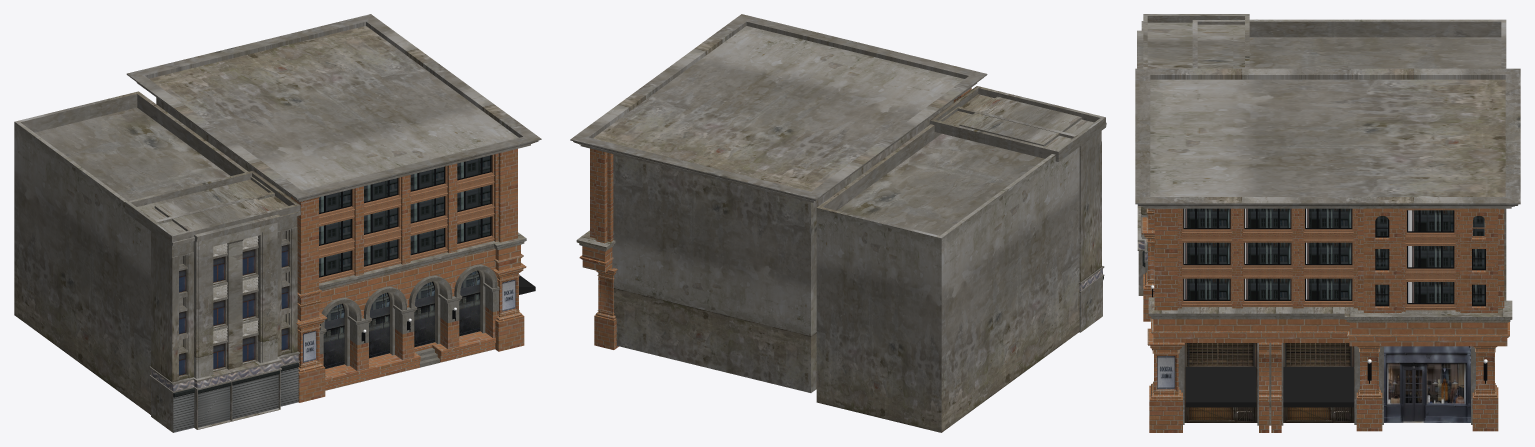
The model's file is building2.glb.
3 views of the same model, side by side, from view 1: azimuth 30°, elevation 25°; view 2: azimuth 150°, elevation 25°; view 3: azimuth 270°, elevation 25° (orthographic). The views are drawn at different scales.
Parts seen in each view (by area): view 1: Cube.002_31, Cube.022_39, floor 3 to 9 1.003_19, Cube.018_35, Cube.021_38, Cube.017_34, Cube.005_27, Cube.020_37, colum l.002_2, Cube.010_29, colum l.003_3, Cube.019_36 (+7 smaller); view 2: Cube.022_39, Cube.002_31, Cube.001_30, Cube.021_38, Cube.018_35, colum l.006_9, Cube.017_34, colum s .005_7, first floor top_15, two window block.002_24; view 3: Cube.002_31, floor 3 to 9 1.004_20, Cube.022_39, first floor top.001_16, first flooe 2._11, first floor 2._12, first floor top_15, MARQUISE_13, Cube.021_38, colum l.003_3, floor 3 to 9 1.005_23, colum l.006_9 (+12 smaller).
Part boxes in pixels (x1=…): Cube.002_31: x1=126, y1=14, x2=541, y2=201; Cube.022_39: x1=14, y1=91, x2=274, y2=414; floor 3 to 9 1.003_19: x1=319, y1=154, x2=494, y2=283; Cube.018_35: x1=151, y1=216, x2=297, y2=382; Cube.021_38: x1=125, y1=170, x2=301, y2=246; Cube.017_34: x1=149, y1=351, x2=299, y2=432; Cube.005_27: x1=323, y1=270, x2=485, y2=368; Cube.020_37: x1=193, y1=222, x2=277, y2=378; colum l.002_2: x1=291, y1=196, x2=327, y2=402; Cube.010_29: x1=319, y1=241, x2=499, y2=318; colum l.003_3: x1=492, y1=148, x2=526, y2=351; Cube.019_36: x1=213, y1=235, x2=258, y2=371; Cube.022_39: x1=816, y1=106, x2=1079, y2=432; Cube.002_31: x1=570, y1=14, x2=987, y2=202; Cube.001_30: x1=612, y1=101, x2=953, y2=392; Cube.021_38: x1=929, y1=86, x2=1106, y2=161; Cube.018_35: x1=1079, y1=131, x2=1101, y2=282; colum l.006_9: x1=594, y1=268, x2=618, y2=349; Cube.017_34: x1=1079, y1=266, x2=1104, y2=332; colum s .005_7: x1=596, y1=150, x2=607, y2=243; first floor top_15: x1=576, y1=230, x2=615, y2=272; two window block.002_24: x1=590, y1=174, x2=613, y2=241; Cube.002_31: x1=1135, y1=68, x2=1520, y2=208; floor 3 to 9 1.004_20: x1=1182, y1=208, x2=1353, y2=306; Cube.022_39: x1=1192, y1=19, x2=1506, y2=300; first floor top.001_16: x1=1148, y1=297, x2=1460, y2=342; first flooe 2._11: x1=1379, y1=346, x2=1475, y2=424; first floor 2._12: x1=1178, y1=343, x2=1359, y2=425; first floor top_15: x1=1344, y1=300, x2=1512, y2=346; MARQUISE_13: x1=1185, y1=367, x2=1353, y2=407; Cube.021_38: x1=1137, y1=14, x2=1249, y2=68; colum l.003_3: x1=1147, y1=208, x2=1184, y2=432; floor 3 to 9 1.005_23: x1=1405, y1=208, x2=1455, y2=310; colum l.006_9: x1=1356, y1=346, x2=1498, y2=431.
Size of the model in its own units: 21.1 by 11.12 by 16.31.
17 materials, 15 textured.
